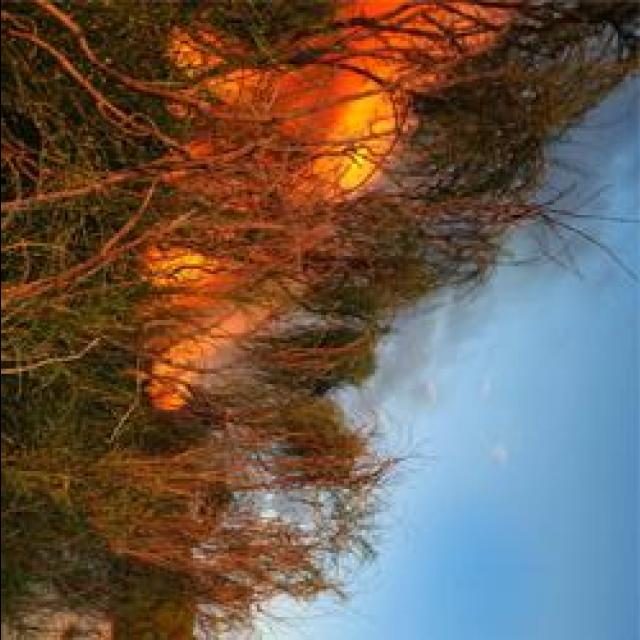fire: (326, 92, 388, 136), (150, 250, 218, 289)
smoke: (372, 339, 442, 407)
